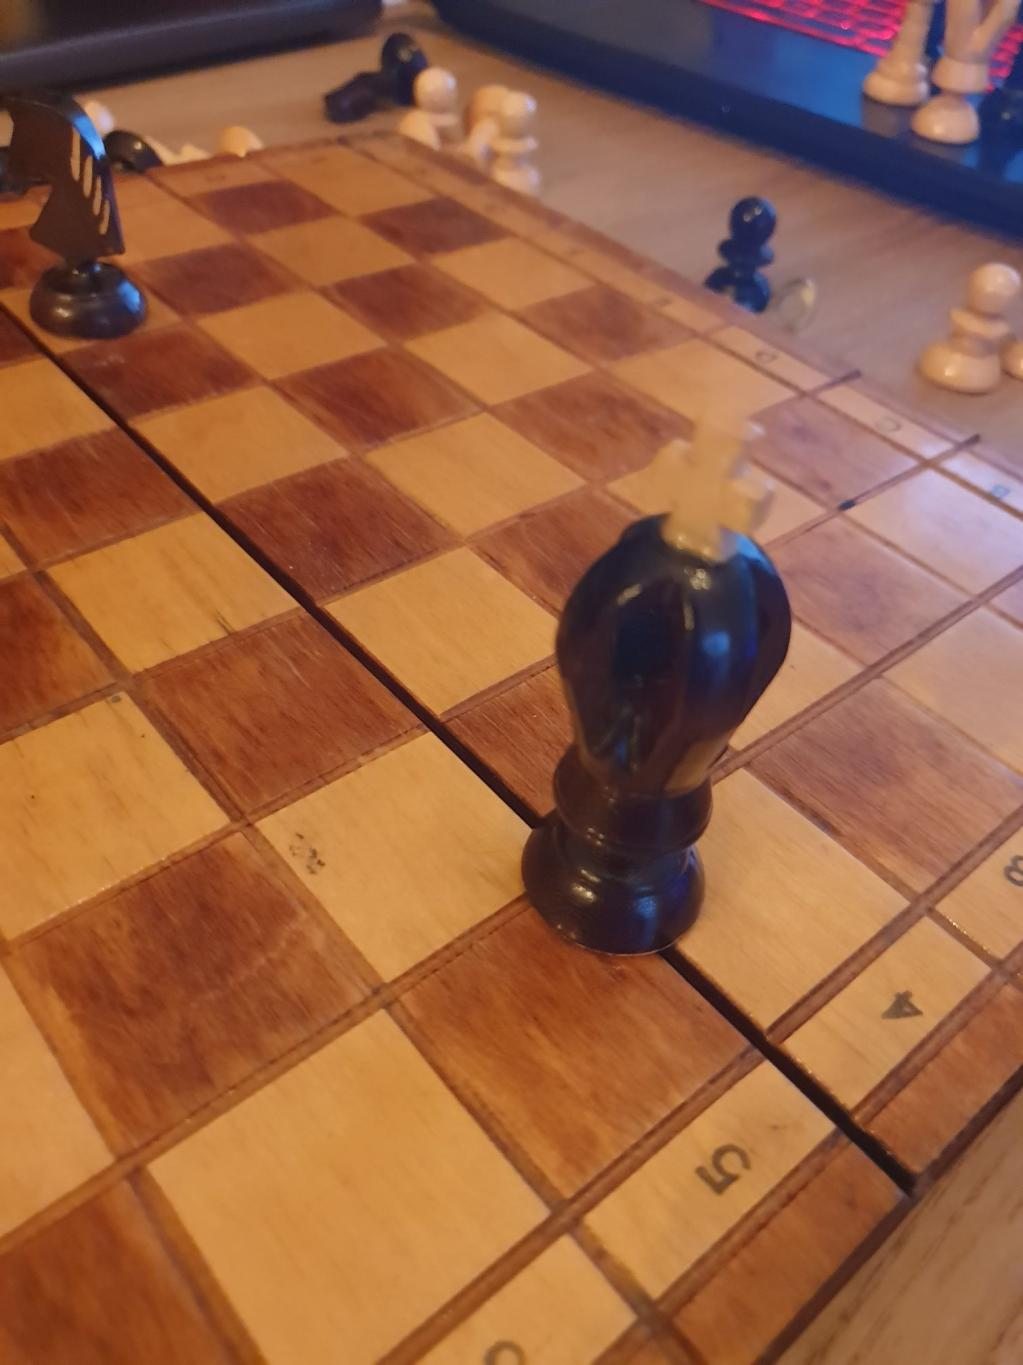bking: (522, 405, 793, 956)
